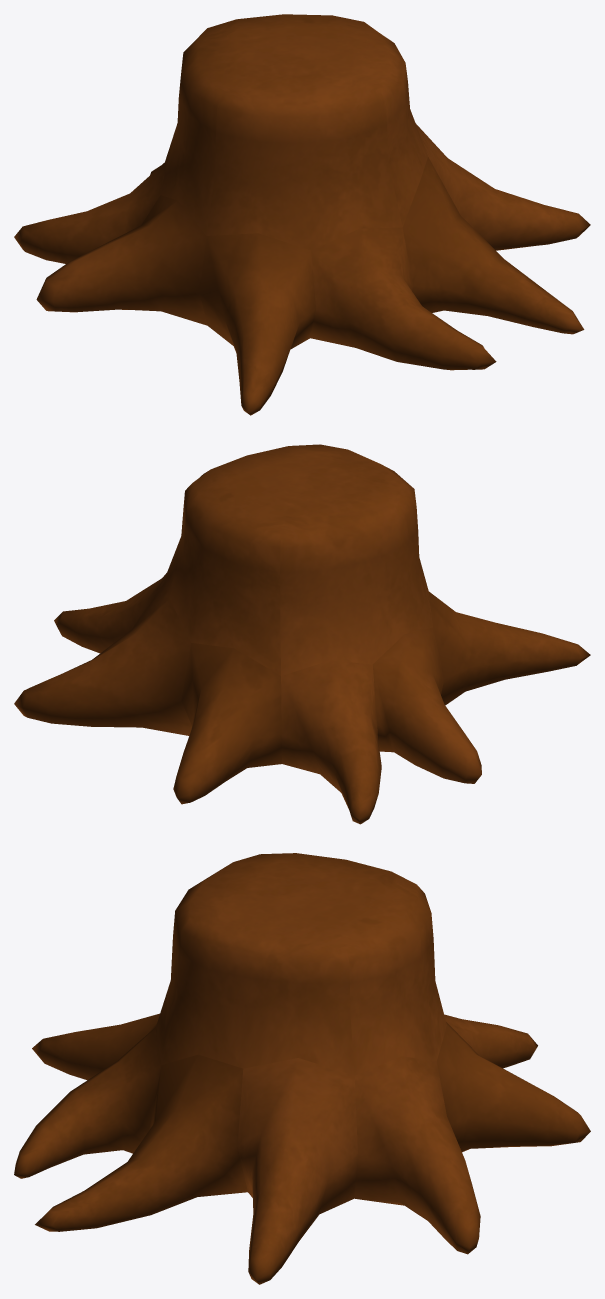
The model's file is tree3.fbx.
3 views of the same model, one above another, from view 1: azimuth 30°, elevation 25°; view 2: azimuth 150°, elevation 25°; view 3: azimuth 270°, elevation 25° (orthographic). The views are drawn at different scales.
Parts seen in each view (by area): view 1: agac_3; view 2: agac_3; view 3: agac_3.
Part boxes in pixels (left/top/right/bottom): agac_3: left=14, top=14, right=590, bottom=415; agac_3: left=14, top=444, right=590, bottom=824; agac_3: left=14, top=853, right=590, bottom=1284.
Bounding box in the file's own units: 235 × 109 × 220.
